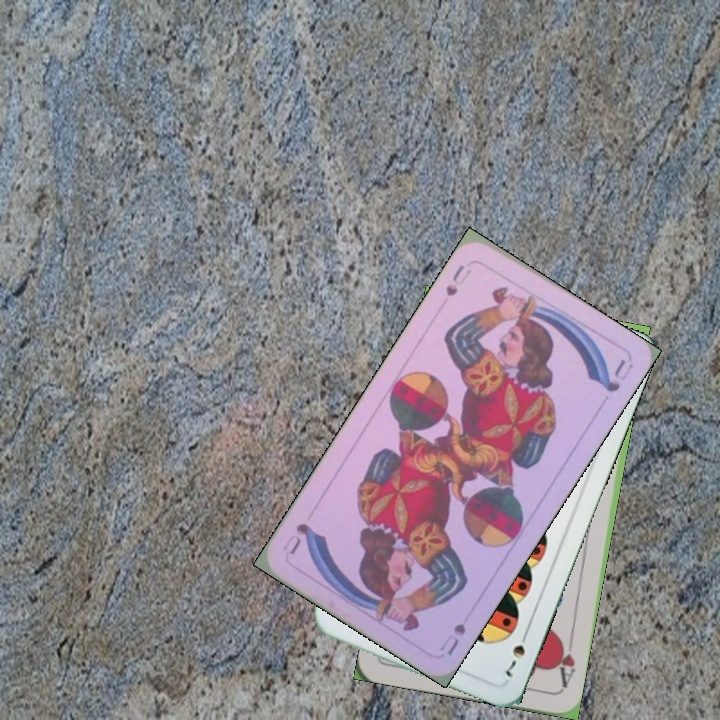HA: (551, 632, 578, 691)
S7: (497, 626, 531, 680)
SU: (436, 619, 469, 658), (441, 260, 474, 299)
